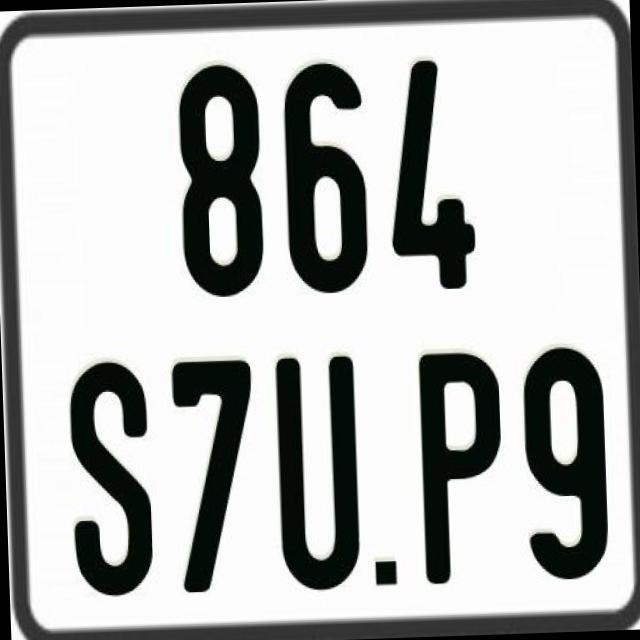4: (382, 57, 476, 292)
6: (278, 56, 364, 294)
7: (170, 359, 264, 602)
8: (175, 60, 263, 302)
9: (517, 344, 608, 578)
P: (418, 346, 504, 588)
S: (66, 358, 152, 596)
U: (273, 352, 359, 594)
